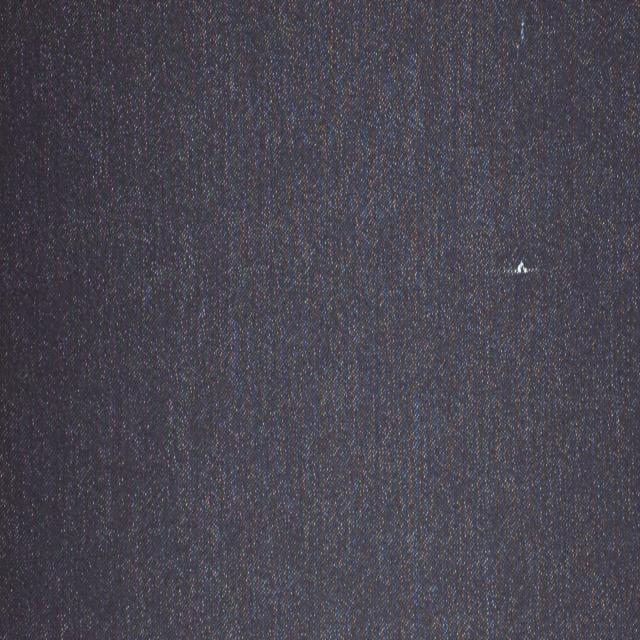Knot: (504, 260, 540, 276)
